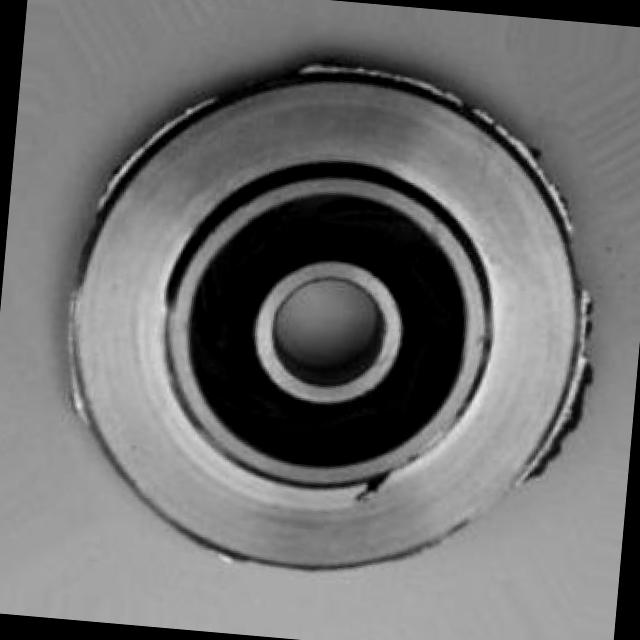Defect: (355, 466, 400, 502)
